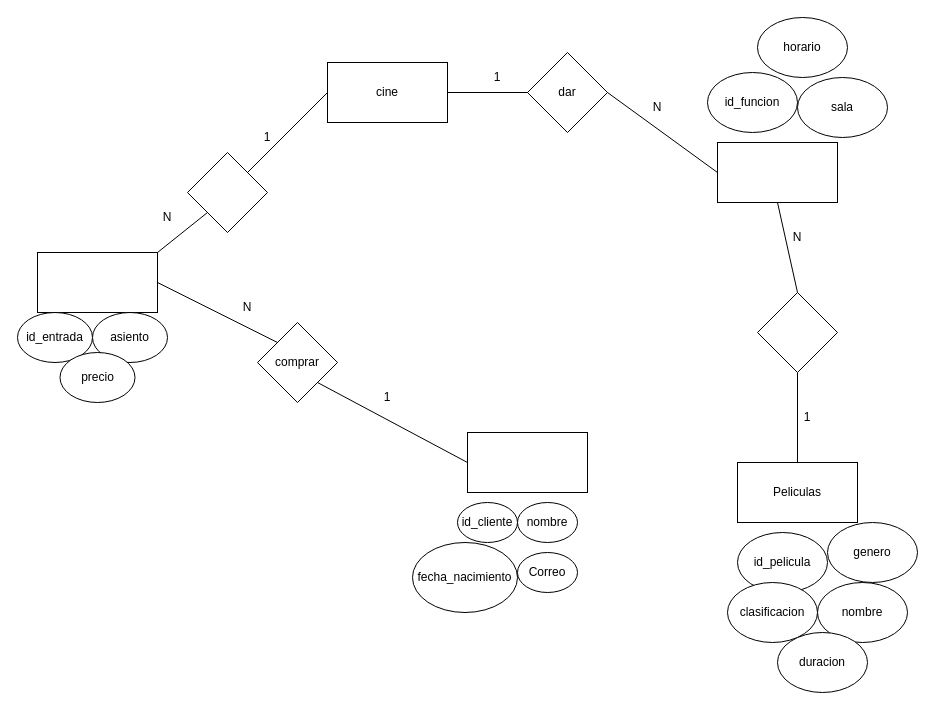
Image size: 935x710. Some labels were removed from this diagram. The shapes that lost their labels are listed below. From the top down, each one's centre as x and y in pixels, then its label:
At [227,192]: "vender".
At [777,172]: "Funciones".
At [97,282]: "Entrada".
At [797,332]: "mostrar".
At [527,462]: "Cliente".
